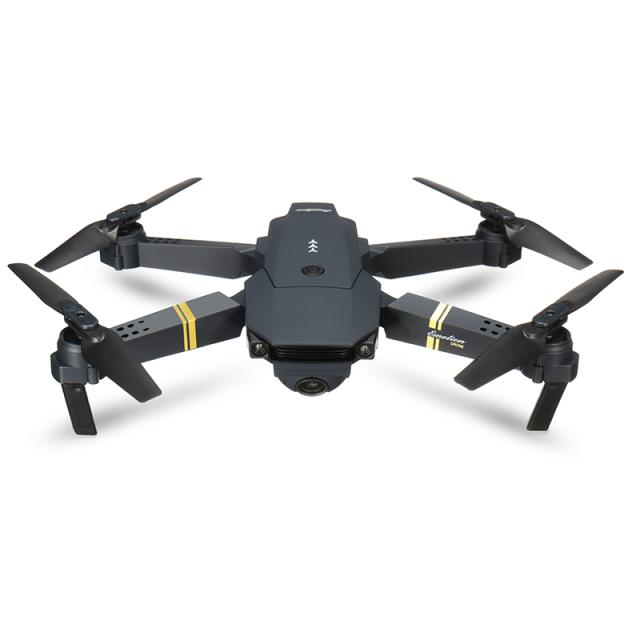drone: (19, 166, 630, 453)
